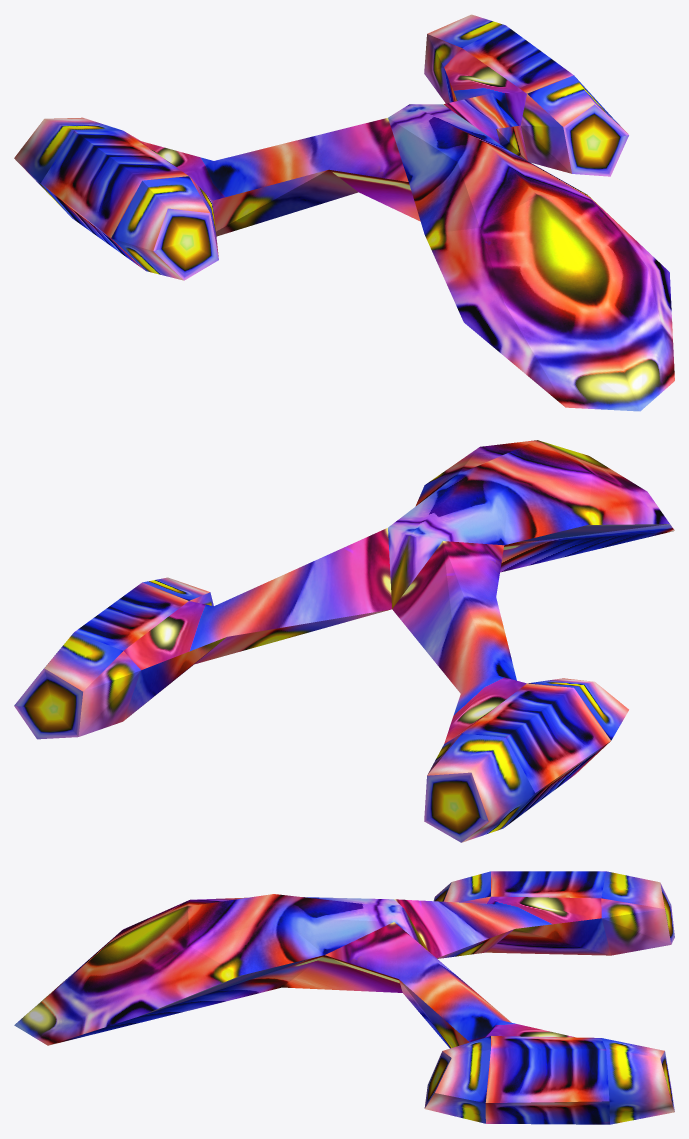
Rendered from ship-52.fbx.
3 renders of one model, top to bottom at view 1: azimuth 30°, elevation 25°; view 2: azimuth 150°, elevation 25°; view 3: azimuth 270°, elevation 25°, orthographic. The views are drawn at different scales.
Parts seen in each view (by area): view 1: ship-52; view 2: ship-52; view 3: ship-52.
Boxes of the visible parts, <box> form: ship-52: <box>14,14,674,411</box>; ship-52: <box>14,440,674,842</box>; ship-52: <box>14,871,674,1124</box>.
Bounding box in the file's own units: 47.73 × 15.32 × 64.66.
